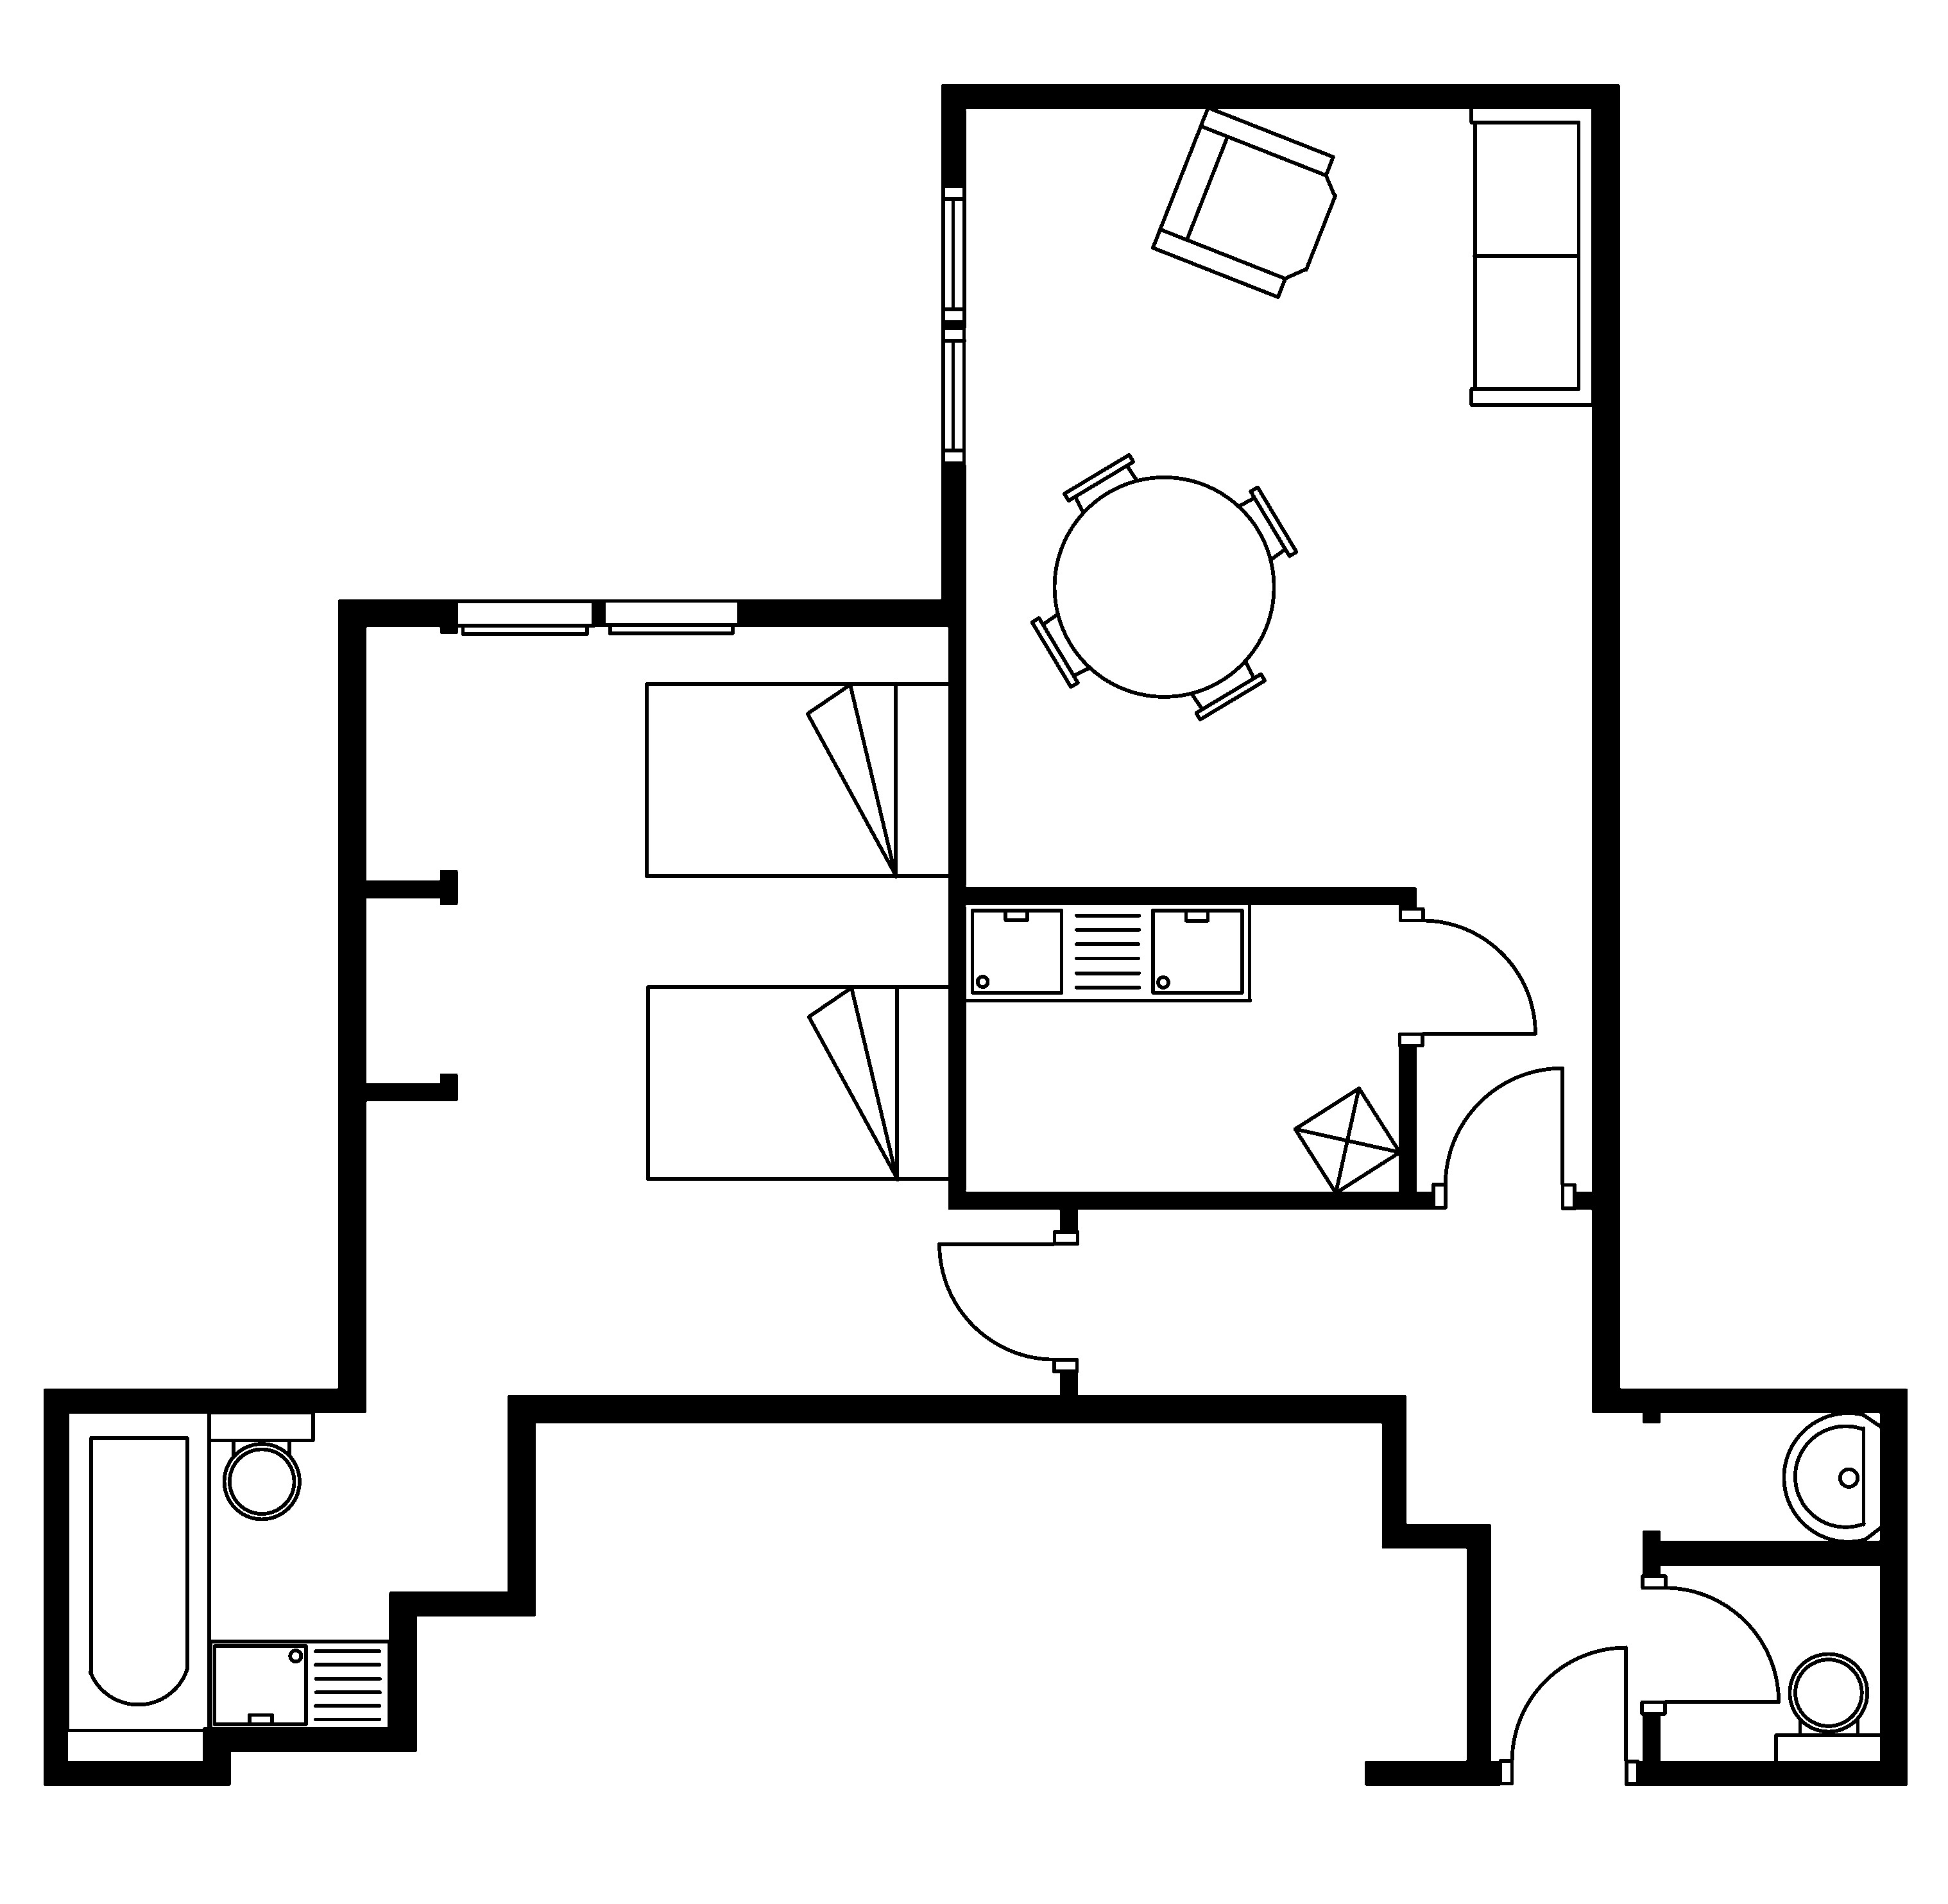armchair: (1149, 105, 1338, 300)
bed: (644, 680, 952, 879), (645, 983, 954, 1182)
coffee_table: (1292, 1086, 1402, 1194)
large_sink: (1774, 1653, 1885, 1766), (206, 1411, 316, 1520)
large_sofa: (1468, 105, 1596, 406)
round_table: (1029, 452, 1298, 722)
sink: (208, 1639, 391, 1731)
small_sink: (1782, 1411, 1883, 1543)
tub: (65, 1409, 211, 1733)
twin_sink: (961, 900, 1252, 1003)
